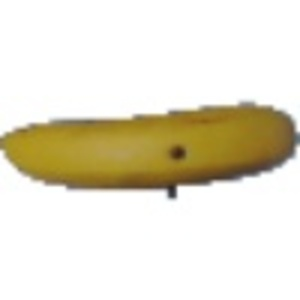banana: (1, 100, 298, 191)
